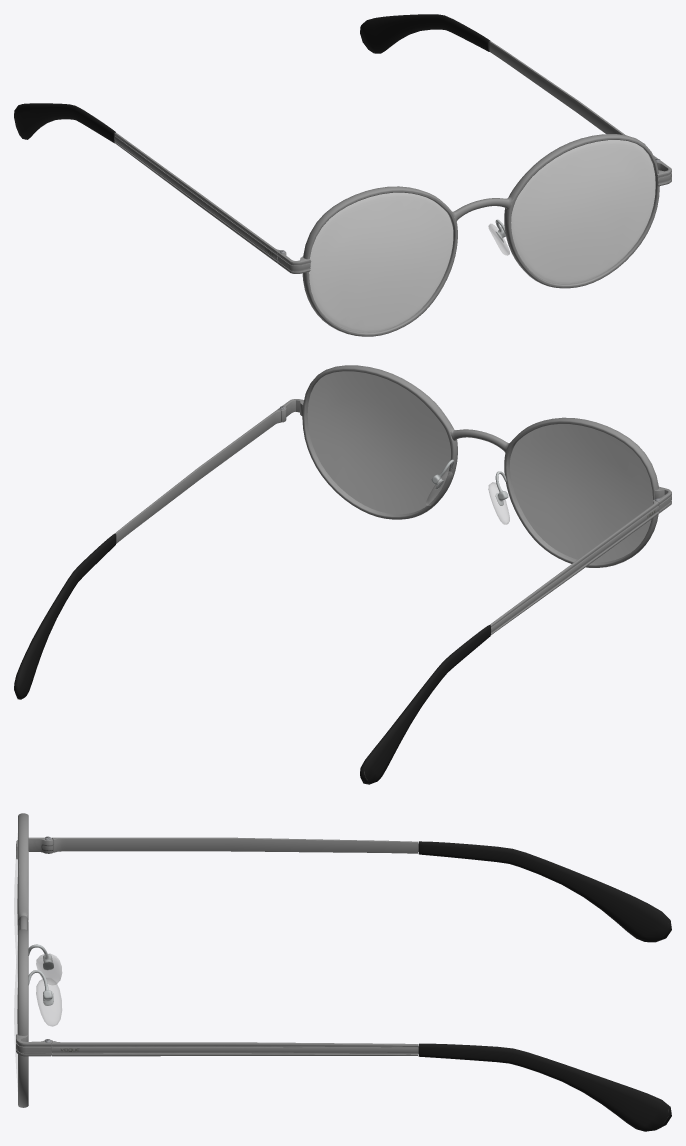
File: RGBA Glasses.glb
3 views of the same model, one above another, from view 1: azimuth 30°, elevation 25°; view 2: azimuth 150°, elevation 25°; view 3: azimuth 270°, elevation 25° (orthographic). The views are drawn at different scales.
Parts seen in each view (by area): view 1: 4; view 2: 4; view 3: 4.
Part boxes in pixels (box(x1,y1,x2,y2)): 4: box(14, 14, 671, 336); 4: box(14, 365, 671, 784); 4: box(14, 813, 671, 1131).
Bounding box in the file's own units: 0.1488 × 0.0543 × 0.2005.
2 materials, 2 textured.
